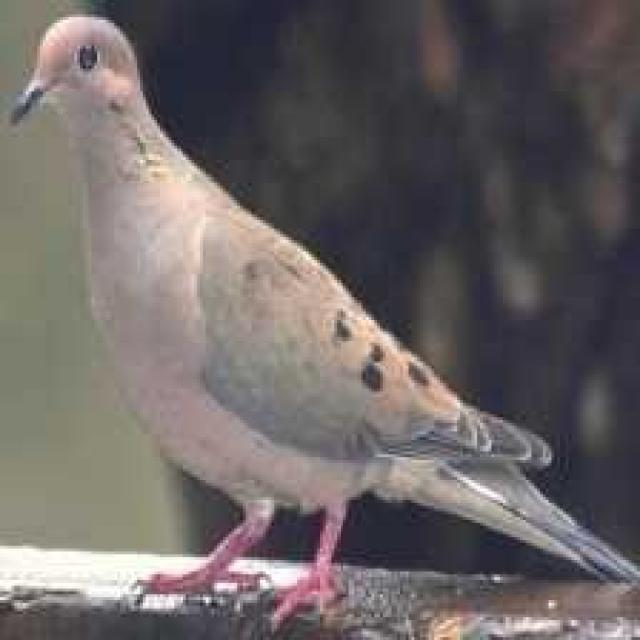bird: (4, 5, 633, 630)
